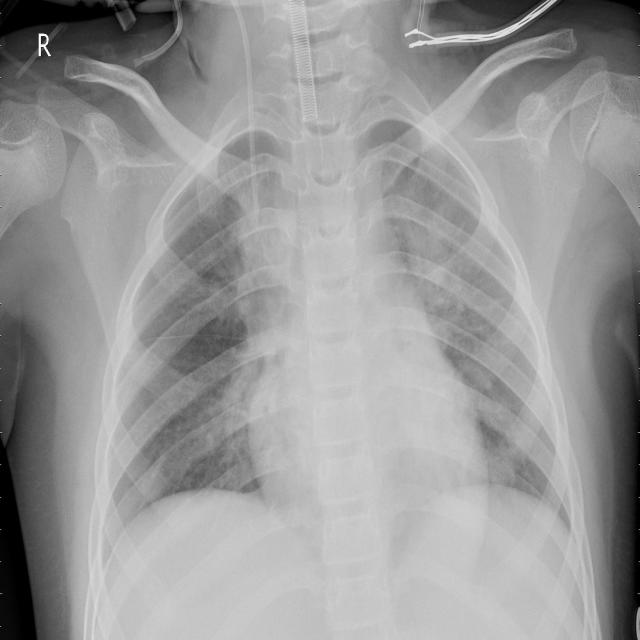high-pneumonia: (214, 159, 289, 330)
low-pneumonia: (393, 191, 476, 349), (191, 333, 267, 491)
